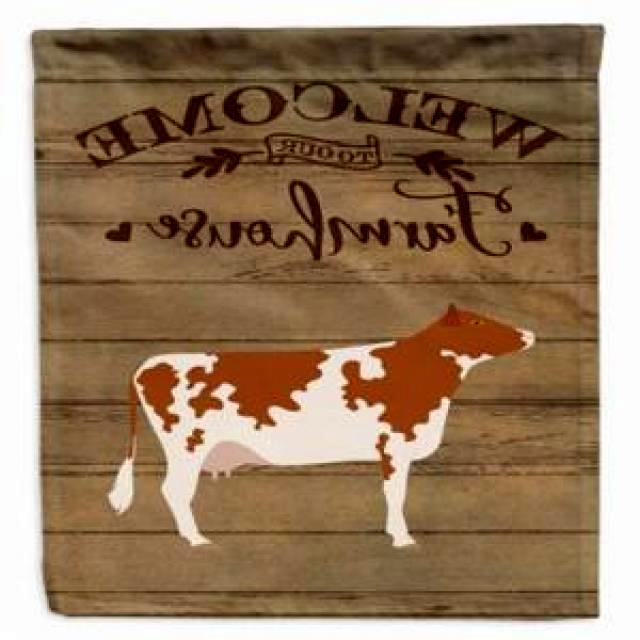COW: (108, 306, 535, 547)
